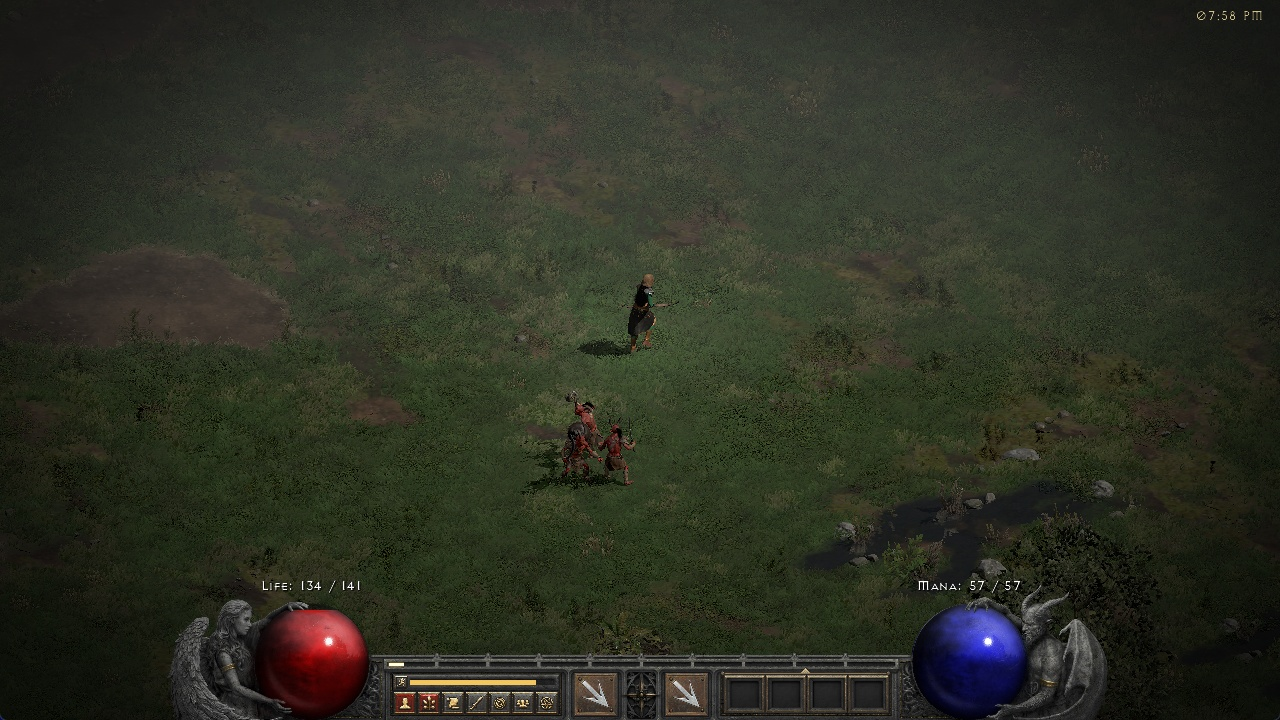fallen: (561, 429, 601, 481), (607, 425, 643, 479), (568, 394, 598, 419)
